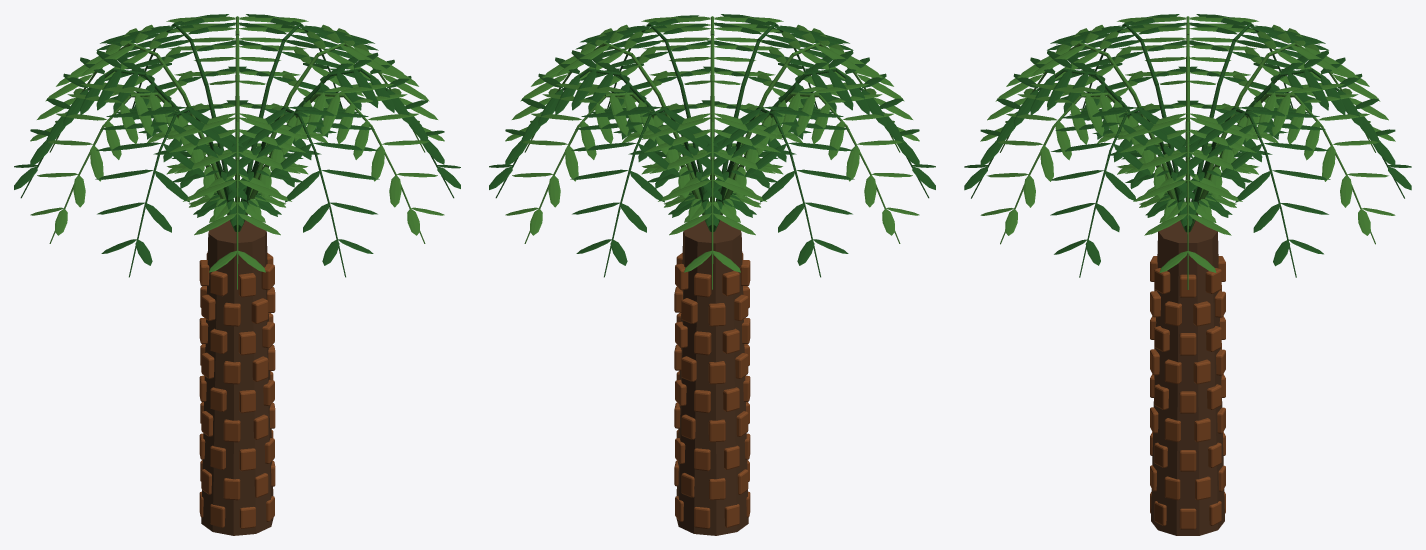
File: edited.glb
3 views of the same model, side by side, from view 1: azimuth 30°, elevation 25°; view 2: azimuth 150°, elevation 25°; view 3: azimuth 270°, elevation 25° (orthographic).
Parts seen in each view (by area): view 1: TRUNK_Thick, TRUNK_DiamondLeafScars, FROND_DenseUpright.010, FROND_DenseUpright.008, FROND_DenseUpright.011, FROND_DenseUpright.007, FROND_DenseUpright.009, FROND_DenseUpright.006, FROND_DenseUpright, FROND_DenseUpright.003, FROND_DenseUpright.001, FROND_DenseUpright.005 (+2 smaller); view 2: TRUNK_Thick, TRUNK_DiamondLeafScars, FROND_DenseUpright.004, FROND_DenseUpright.006, FROND_DenseUpright.003, FROND_DenseUpright.007, FROND_DenseUpright.005, FROND_DenseUpright.002, FROND_DenseUpright.008, FROND_DenseUpright.011, FROND_DenseUpright.001, FROND_DenseUpright.009 (+2 smaller); view 3: TRUNK_Thick, TRUNK_DiamondLeafScars, FROND_DenseUpright.002, FROND_DenseUpright.011, FROND_DenseUpright.003, FROND_DenseUpright, FROND_DenseUpright.001, FROND_DenseUpright.010, FROND_DenseUpright.004, FROND_DenseUpright.007, FROND_DenseUpright.009, FROND_DenseUpright.005 (+2 smaller).
Boxes of the visible parts, bbox=[...] form: TRUNK_Thick: bbox=[201, 220, 273, 535]; TRUNK_DiamondLeafScars: bbox=[199, 253, 275, 528]; FROND_DenseUpright.010: bbox=[226, 106, 379, 277]; FROND_DenseUpright.008: bbox=[95, 106, 248, 277]; FROND_DenseUpright.011: bbox=[239, 82, 444, 243]; FROND_DenseUpright.007: bbox=[30, 82, 235, 243]; FROND_DenseUpright.009: bbox=[166, 112, 308, 289]; FROND_DenseUpright.006: bbox=[14, 50, 233, 227]; FROND_DenseUpright: bbox=[241, 52, 460, 227]; FROND_DenseUpright.003: bbox=[166, 16, 308, 179]; FROND_DenseUpright.001: bbox=[249, 24, 444, 207]; FROND_DenseUpright.005: bbox=[30, 24, 225, 207]; TRUNK_Thick: bbox=[676, 220, 748, 535]; TRUNK_DiamondLeafScars: bbox=[674, 253, 750, 528]; FROND_DenseUpright.004: bbox=[570, 106, 723, 277]; FROND_DenseUpright.006: bbox=[701, 106, 854, 277]; FROND_DenseUpright.003: bbox=[505, 82, 710, 243]; FROND_DenseUpright.007: bbox=[714, 82, 919, 243]; FROND_DenseUpright.005: bbox=[641, 112, 783, 289]; FROND_DenseUpright.002: bbox=[489, 50, 708, 227]; FROND_DenseUpright.008: bbox=[716, 50, 935, 227]; FROND_DenseUpright.011: bbox=[641, 16, 783, 179]; FROND_DenseUpright.001: bbox=[505, 24, 700, 207]; FROND_DenseUpright.009: bbox=[724, 24, 919, 207]; TRUNK_Thick: bbox=[1151, 220, 1224, 535]; TRUNK_DiamondLeafScars: bbox=[1150, 256, 1225, 529]; FROND_DenseUpright.002: bbox=[1177, 106, 1330, 277]; FROND_DenseUpright.011: bbox=[980, 83, 1185, 244]; FROND_DenseUpright.003: bbox=[1190, 83, 1395, 244]; FROND_DenseUpright: bbox=[1050, 106, 1194, 277]; FROND_DenseUpright.001: bbox=[1116, 112, 1259, 289]; FROND_DenseUpright.010: bbox=[964, 50, 1184, 229]; FROND_DenseUpright.004: bbox=[1191, 50, 1411, 229]; FROND_DenseUpright.007: bbox=[1117, 16, 1258, 157]; FROND_DenseUpright.009: bbox=[980, 25, 1176, 207]; FROND_DenseUpright.005: bbox=[1199, 25, 1395, 207].
Size of the model in its own units: 4.34 by 4.84 by 4.34.
